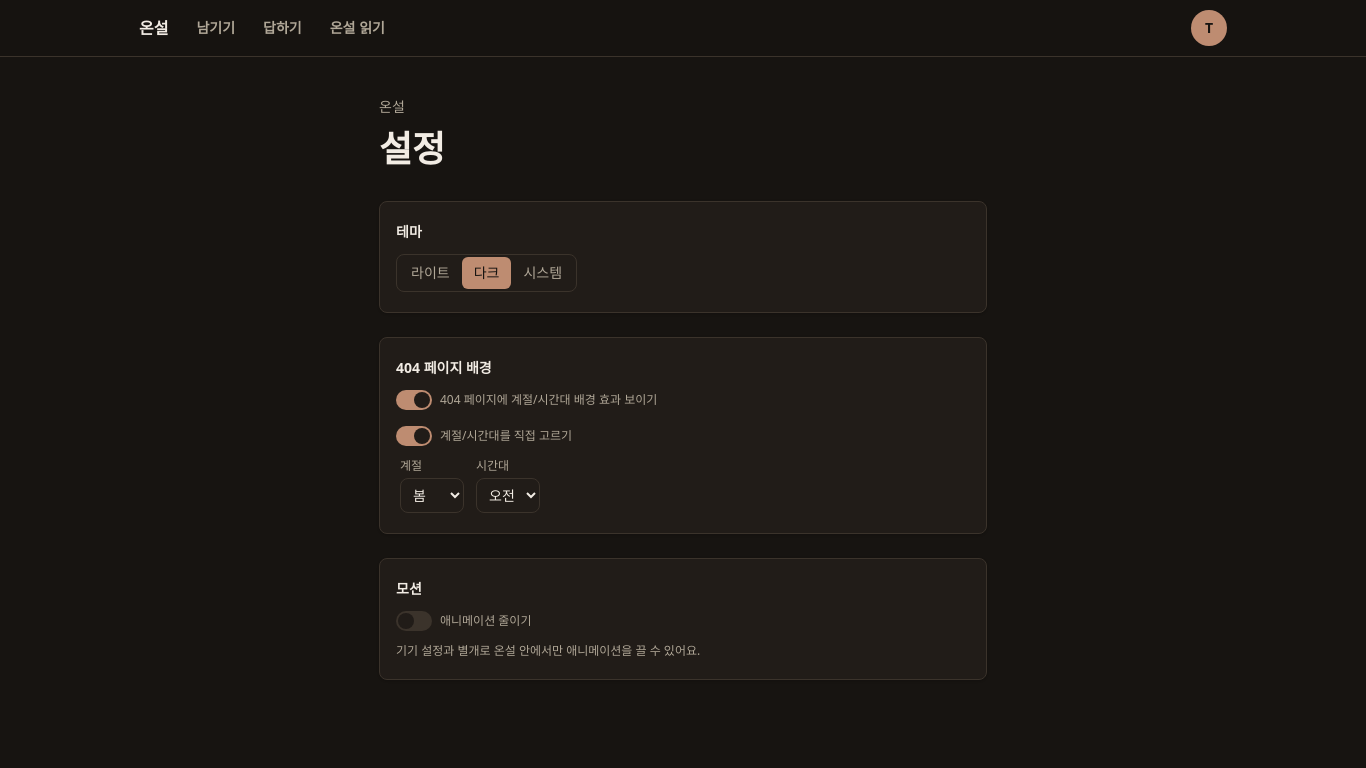
Test: SettingsPageContent › turning off the 404 background hides the mood pickers entirely
Check: the heading "테마" is shown, box 396,222 -> 422,241
Click the switch labelled "404 페이지에 계절/시간대 배경 효과 보이기": (527, 400) 396,390 -> 657,410
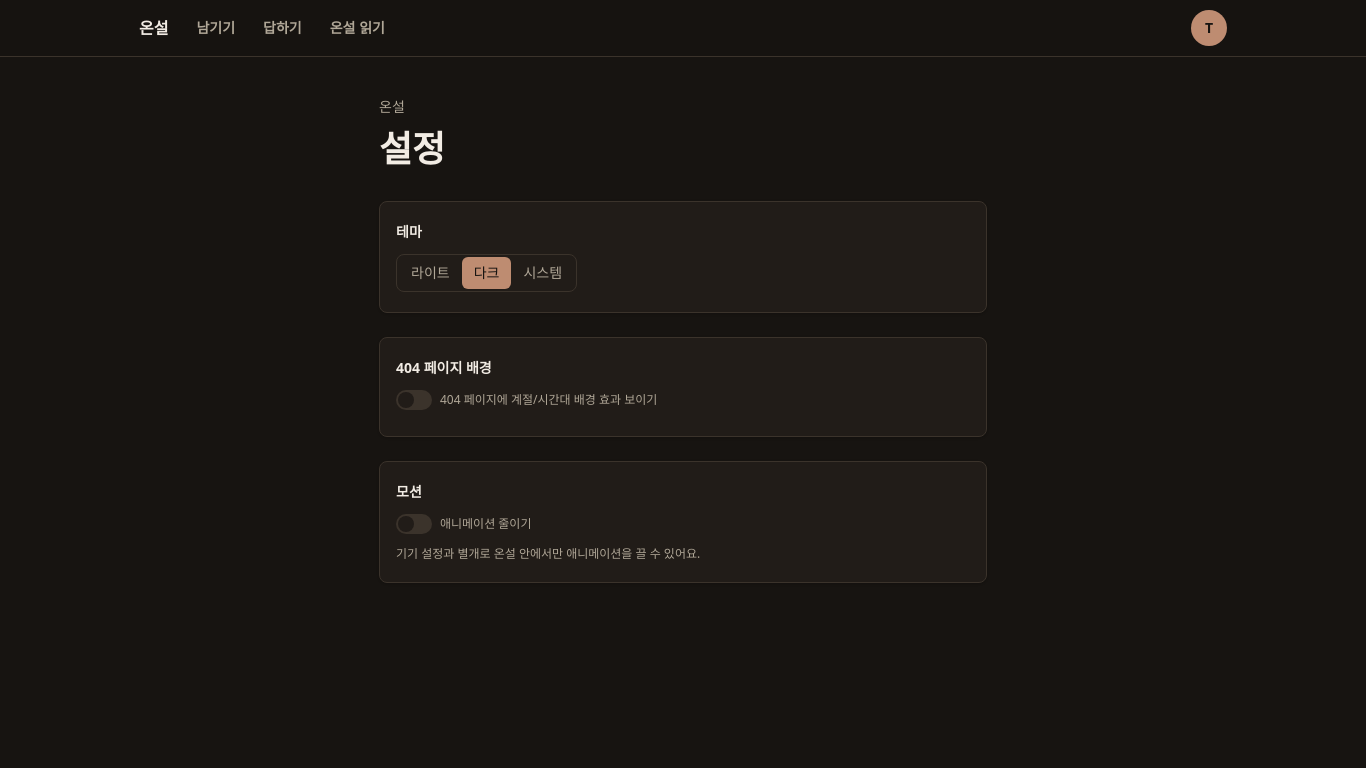
Check: the checkbox labelled "계절/시간대를 직접 고르기" is gone
